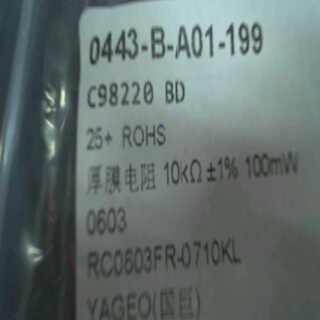10kR: (159, 154, 204, 190)
